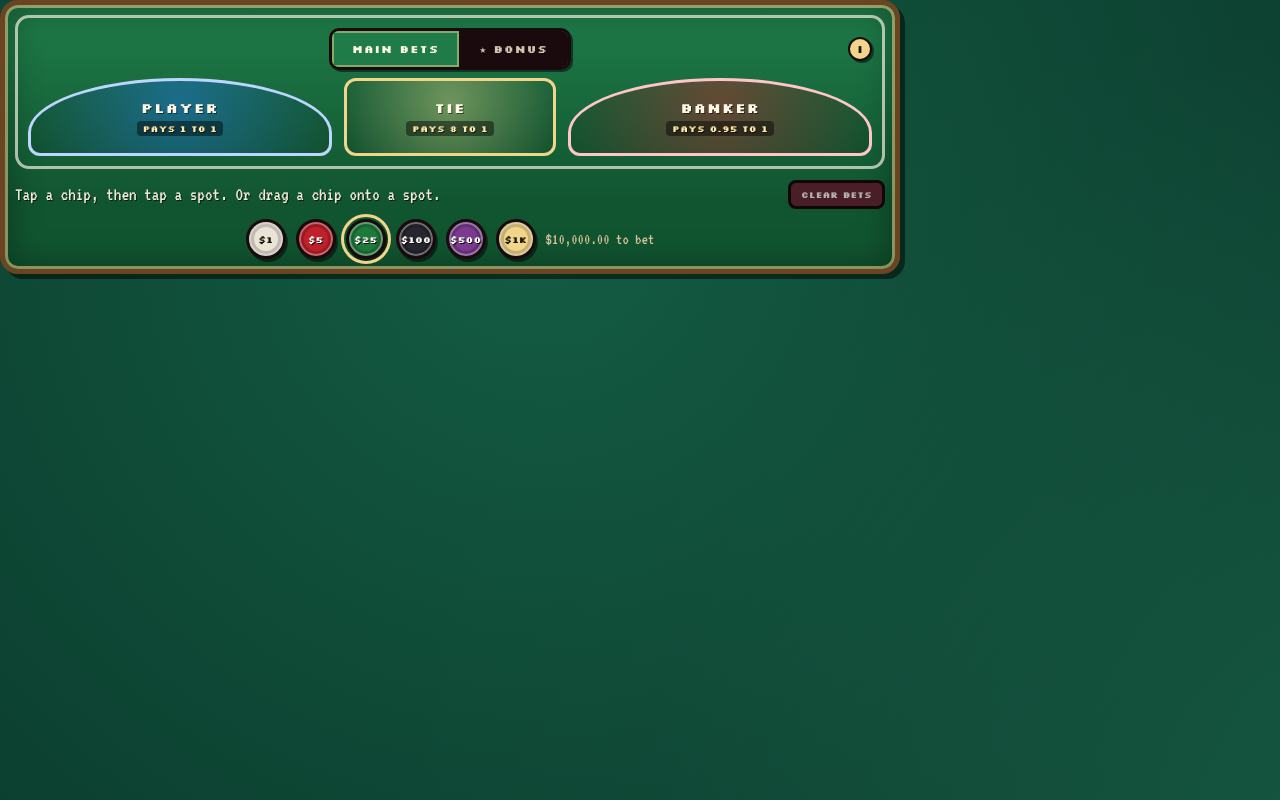
Test: bonuses are hidden on the MAIN view; the BONUS tab reveals them and hides the mains
This screenshot has width=1280, height=800.
Click the tab "★ BONUS". click: (514,49)
box: [459, 31, 568, 67]
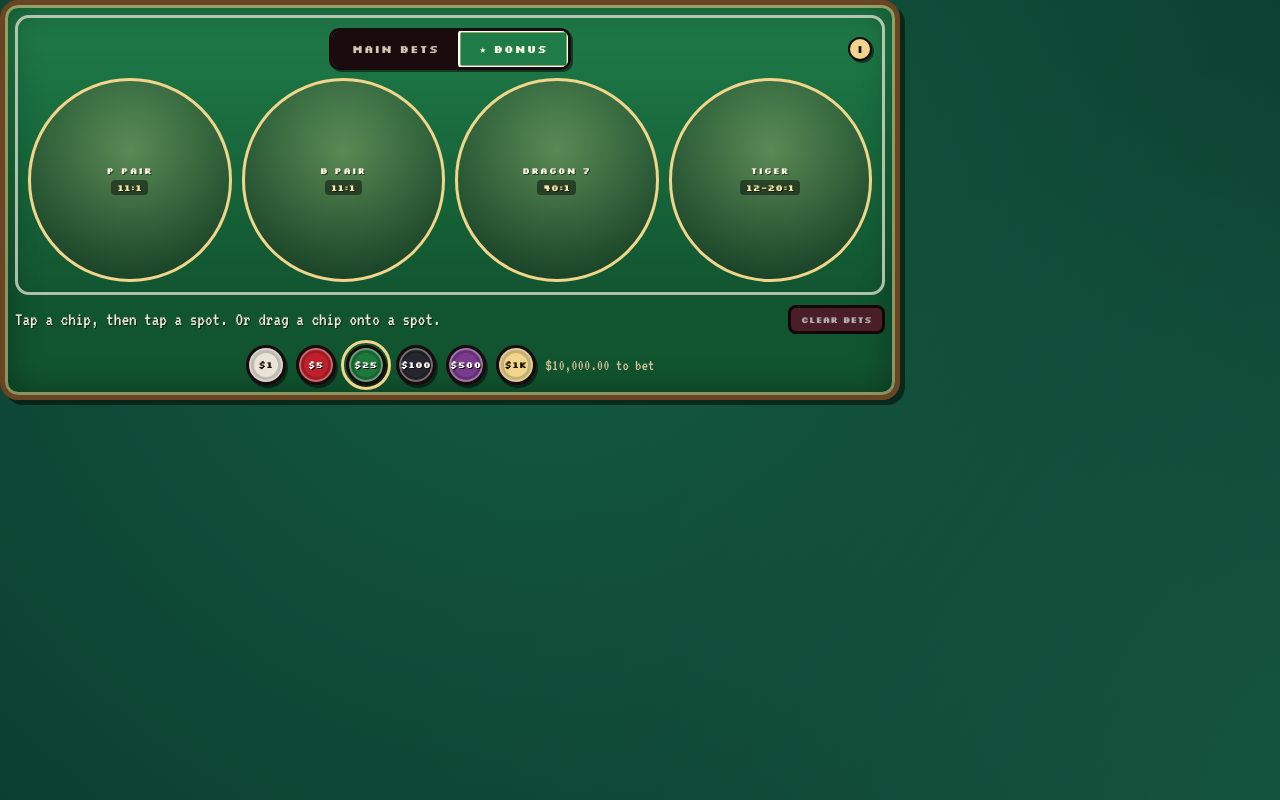
expect the button with aria-label "Bet Dragon 7" is shown: met, box [455, 78, 658, 282]
